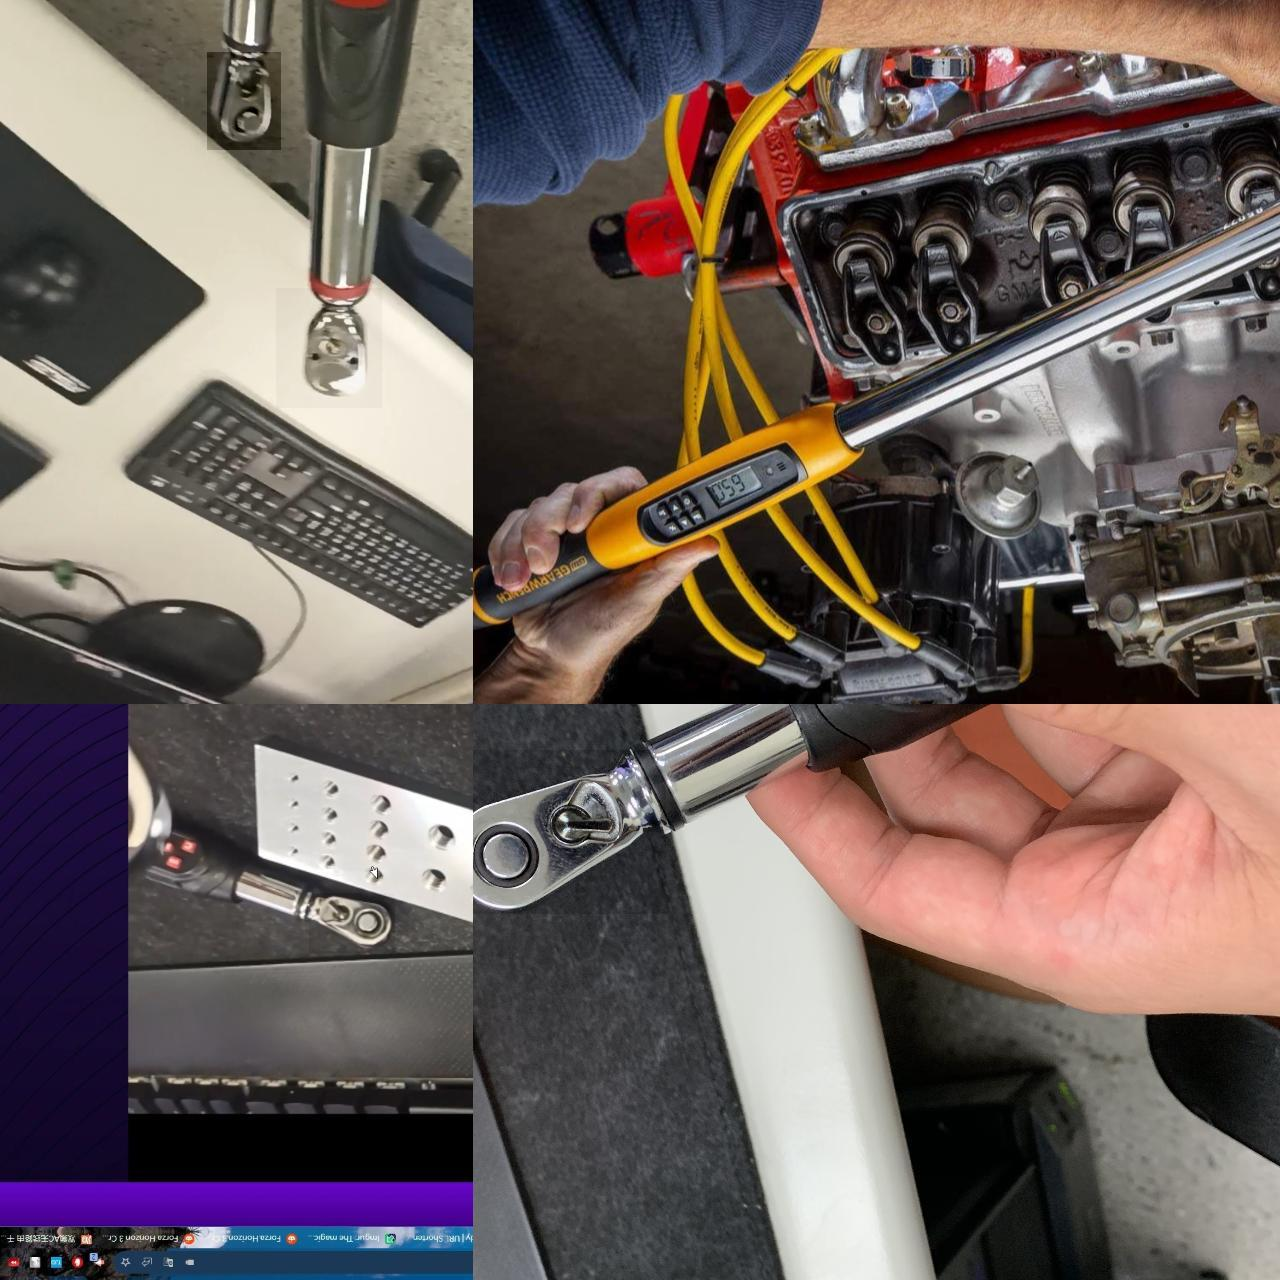Tool: (474, 750, 666, 914), (275, 288, 382, 408), (207, 52, 281, 150), (309, 893, 395, 953)
